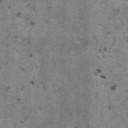oxide scale of temperature system: (94, 68, 118, 92), (8, 5, 35, 25), (104, 32, 128, 51), (108, 104, 114, 110), (30, 80, 35, 85), (30, 53, 34, 58), (21, 66, 25, 71), (16, 98, 21, 101)
